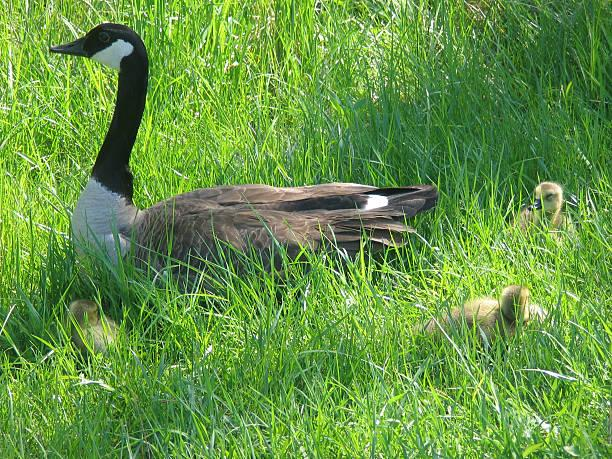Canadian-Goose: (46, 19, 439, 287)
